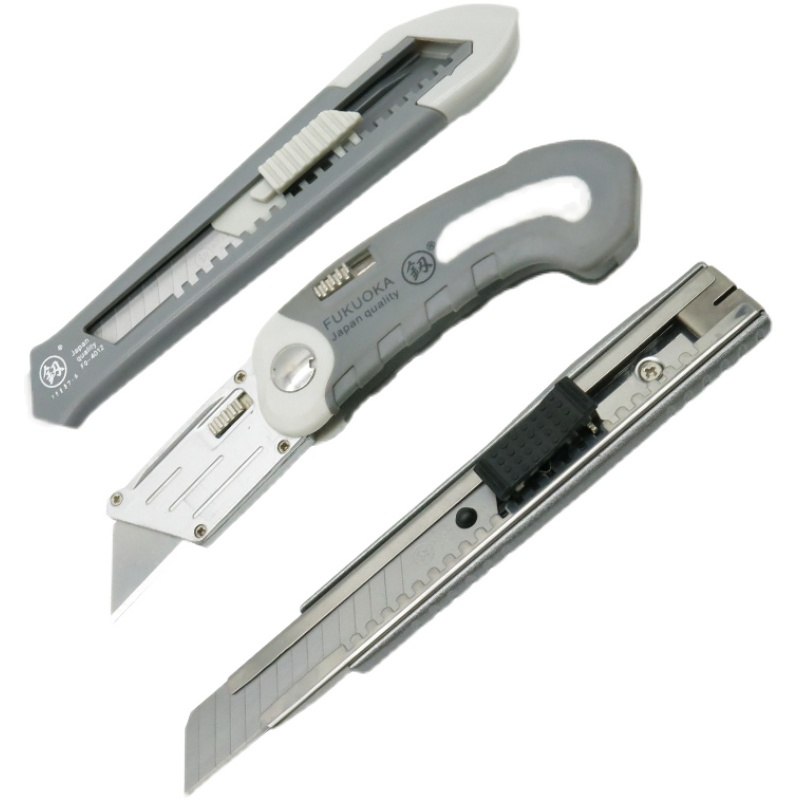cutter: (183, 261, 773, 794), (106, 138, 642, 622), (29, 4, 520, 431)
